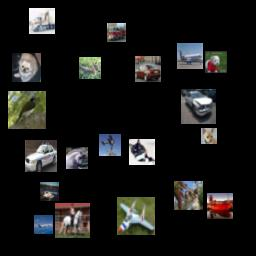airplane: (117, 197, 155, 235), (177, 43, 203, 69), (99, 134, 121, 156), (34, 215, 53, 234), (40, 182, 59, 201)
automobile: (181, 89, 216, 124), (25, 140, 57, 172), (135, 56, 161, 82)
bird: (8, 91, 46, 129)
cat: (174, 181, 203, 210), (129, 139, 155, 165)
deer: (79, 57, 101, 79)
dog: (12, 53, 41, 82), (205, 51, 227, 73), (201, 128, 217, 144)
ship: (207, 193, 233, 219)
truck: (29, 8, 55, 34), (107, 23, 126, 42)
